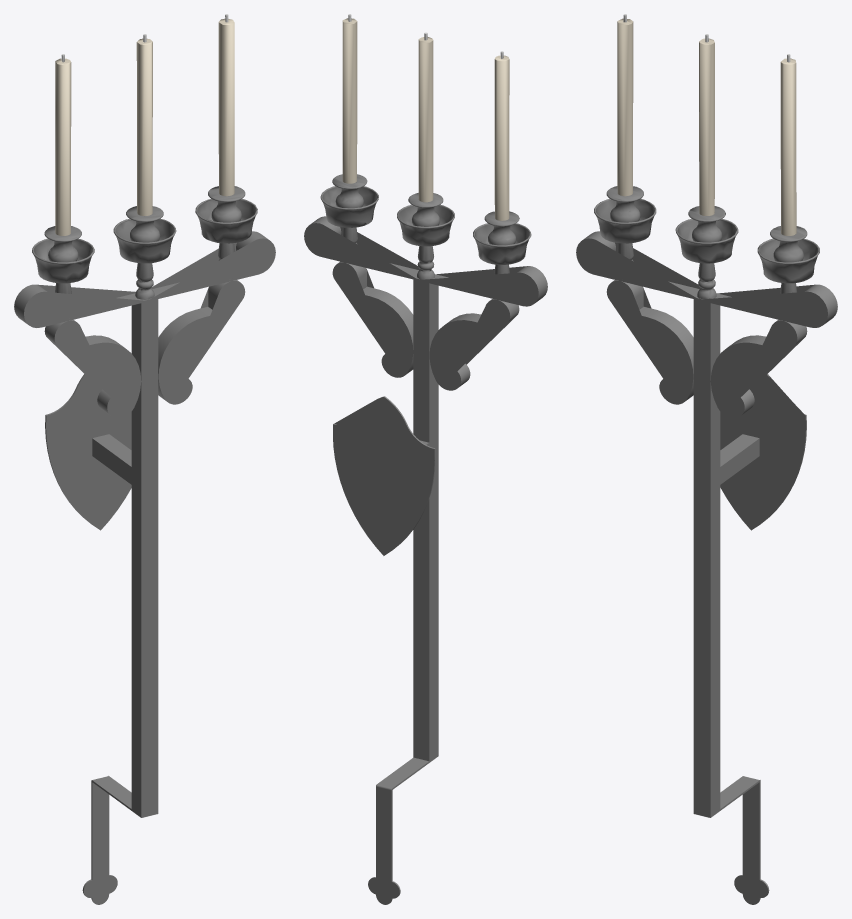
The model's file is candle_wall_sconce.fbx.
3 views of the same model, side by side, from view 1: azimuth 30°, elevation 25°; view 2: azimuth 150°, elevation 25°; view 3: azimuth 330°, elevation 25° (orthographic). The views are drawn at different scales.
Parts seen in each view (by area): view 1: Wall_sconce, Wall_sconce_candleholder, Wall_sconce_Candle; view 2: Wall_sconce, Wall_sconce_Candle, Wall_sconce_candleholder; view 3: Wall_sconce, Wall_sconce_candleholder, Wall_sconce_Candle.
Part boxes in pixels (left/top/right/bottom): Wall_sconce: left=14, top=231, right=275, bottom=904; Wall_sconce_candleholder: left=32, top=186, right=257, bottom=299; Wall_sconce_Candle: left=55, top=14, right=234, bottom=235; Wall_sconce: left=304, top=216, right=547, bottom=904; Wall_sconce_Candle: left=342, top=14, right=509, bottom=220; Wall_sconce_candleholder: left=320, top=174, right=531, bottom=279; Wall_sconce: left=576, top=231, right=837, bottom=904; Wall_sconce_candleholder: left=594, top=186, right=819, bottom=318; Wall_sconce_Candle: left=617, top=14, right=796, bottom=235.
Size of the model in its own units: 1.16 by 3.96 by 0.4836.
